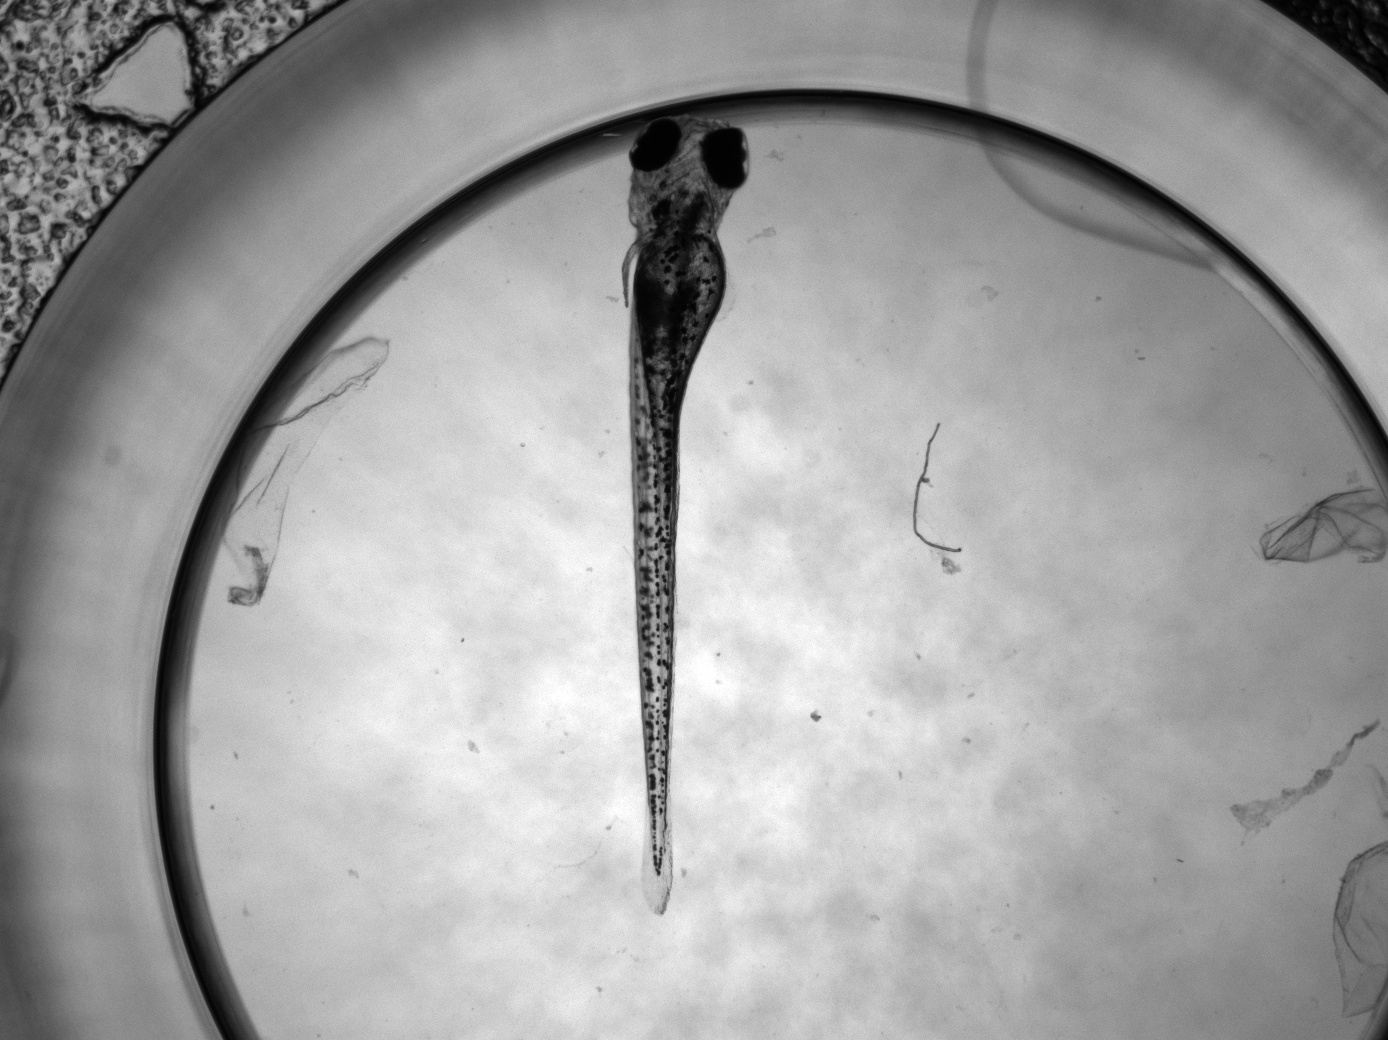embryo: (627, 115, 754, 881)
eye: (700, 127, 750, 190), (629, 118, 683, 172)
yolksac: (633, 233, 727, 331)
